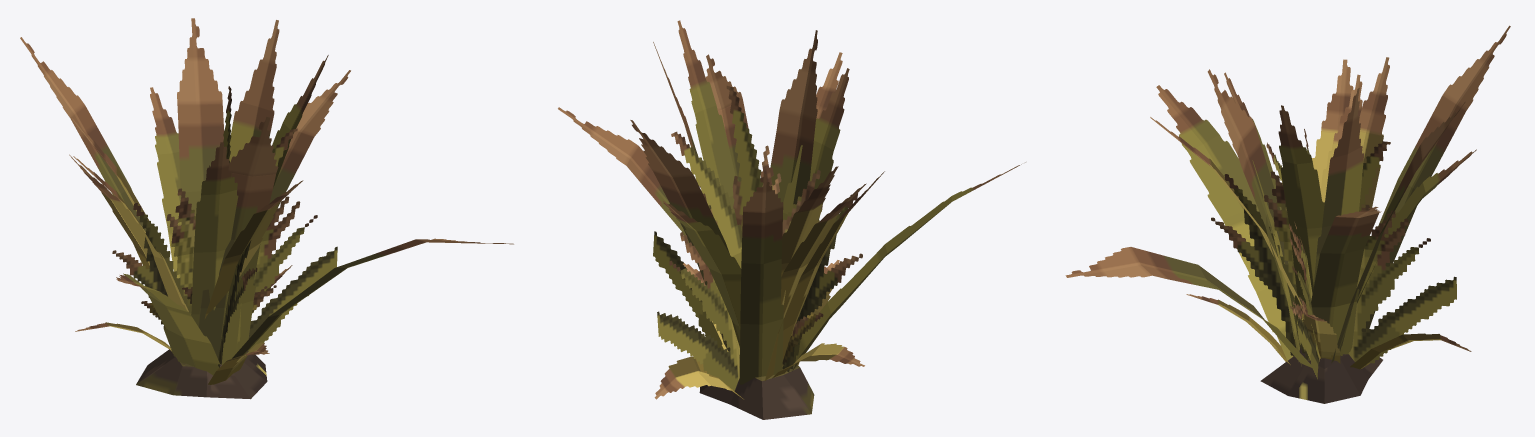
The model's file is SM_SW03_SedgeFan.fbx.
3 views of the same model, side by side, from view 1: azimuth 30°, elevation 25°; view 2: azimuth 150°, elevation 25°; view 3: azimuth 270°, elevation 25° (orthographic). The views are drawn at different scales.
Visible parts, largest first — view 1: SW03a_Plants, SW03a_Mud; view 2: SW03a_Plants, SW03a_Mud; view 3: SW03a_Plants, SW03a_Mud.
Boxes of the visible parts, x1,y1,x2,y2 form: SW03a_Plants: [20, 18, 513, 384]; SW03a_Mud: [136, 349, 267, 399]; SW03a_Plants: [558, 20, 1025, 399]; SW03a_Mud: [699, 364, 814, 419]; SW03a_Plants: [1065, 25, 1510, 379]; SW03a_Mud: [1260, 348, 1382, 403].
Size of the model in its own units: 0.7672 by 0.6365 by 0.8047.
